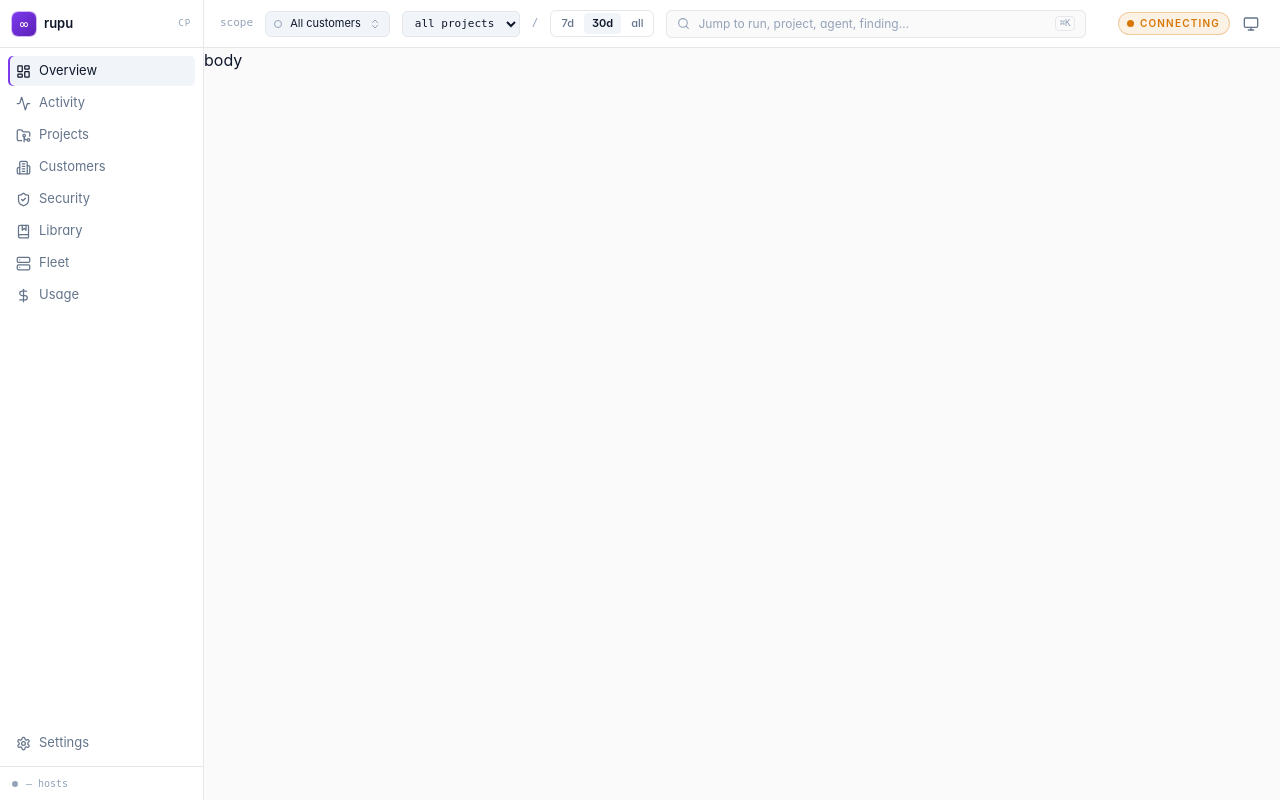
Shell v2 › the search button opens the command palette
The width and height of the screenshot is (1280, 800).
Click the button "Jump to run, project, agent, finding… ⌘K" at x=876, y=24, box x1=666 y1=10 x2=1086 y2=38
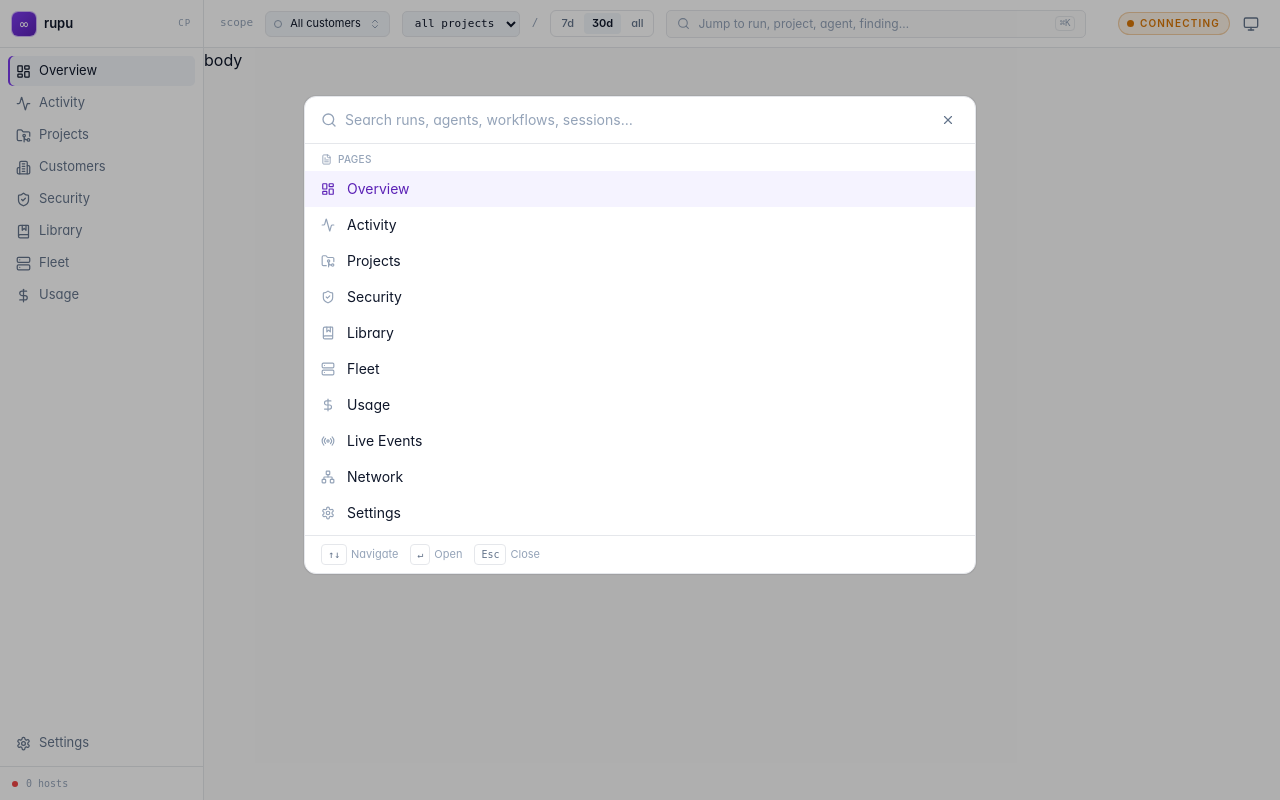
Check: the dialog is shown, box x1=304 y1=96 x2=976 y2=574
